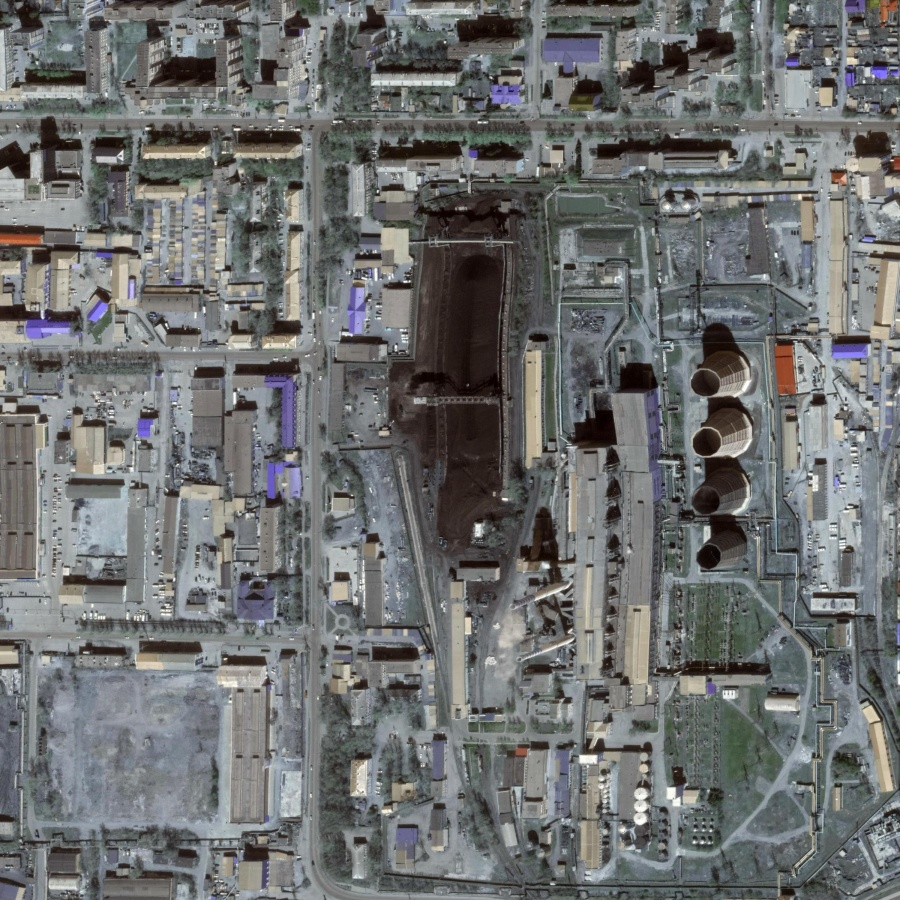PowerPlant: (375, 178, 785, 687)
